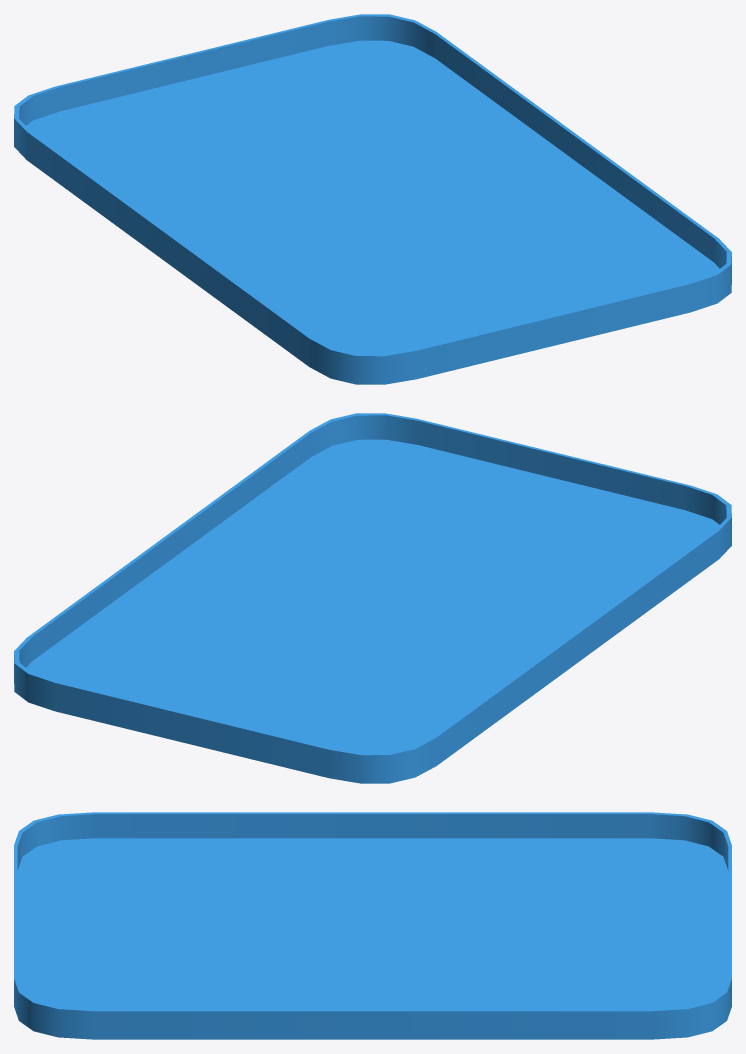
Rendered from Kitchen_BlueTray.FBX.
The picture shows the model from 3 angles, top to bottom: view 1: azimuth 30°, elevation 25°; view 2: azimuth 150°, elevation 25°; view 3: azimuth 270°, elevation 25°; orthographic projection.
Parts seen in each view (by area): view 1: Kitchen_blue_pan; view 2: Kitchen_blue_pan; view 3: Kitchen_blue_pan.
Boxes of the visible parts, x1,y1,x2,y2 form: Kitchen_blue_pan: (14, 14, 731, 384); Kitchen_blue_pan: (14, 413, 731, 783); Kitchen_blue_pan: (14, 812, 731, 1039).
Bounding box in the file's own units: 0.3784 × 0.0252 × 0.5778.
